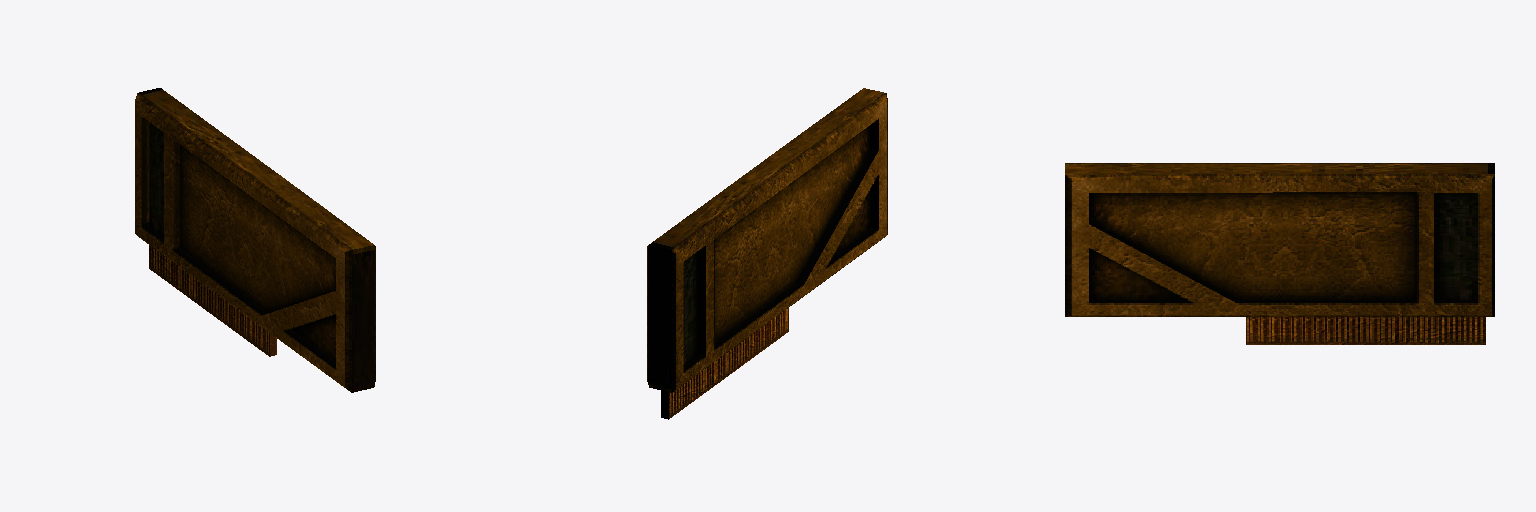
The picture shows the model from 3 angles: view 1: azimuth 30°, elevation 25°; view 2: azimuth 150°, elevation 25°; view 3: azimuth 270°, elevation 25°; orthographic projection.
Size of the model in its own units: 1.99 by 11 by 24.5.
Materials: 1 (1 with a texture image).